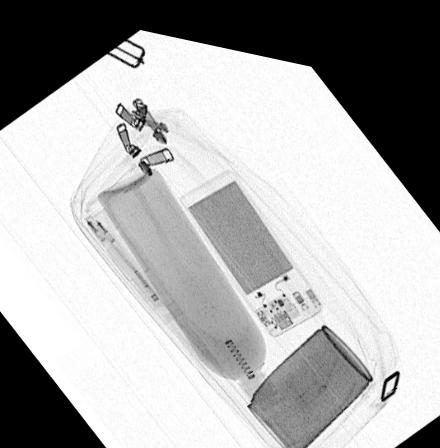Powerbank: (176, 160, 321, 325)
